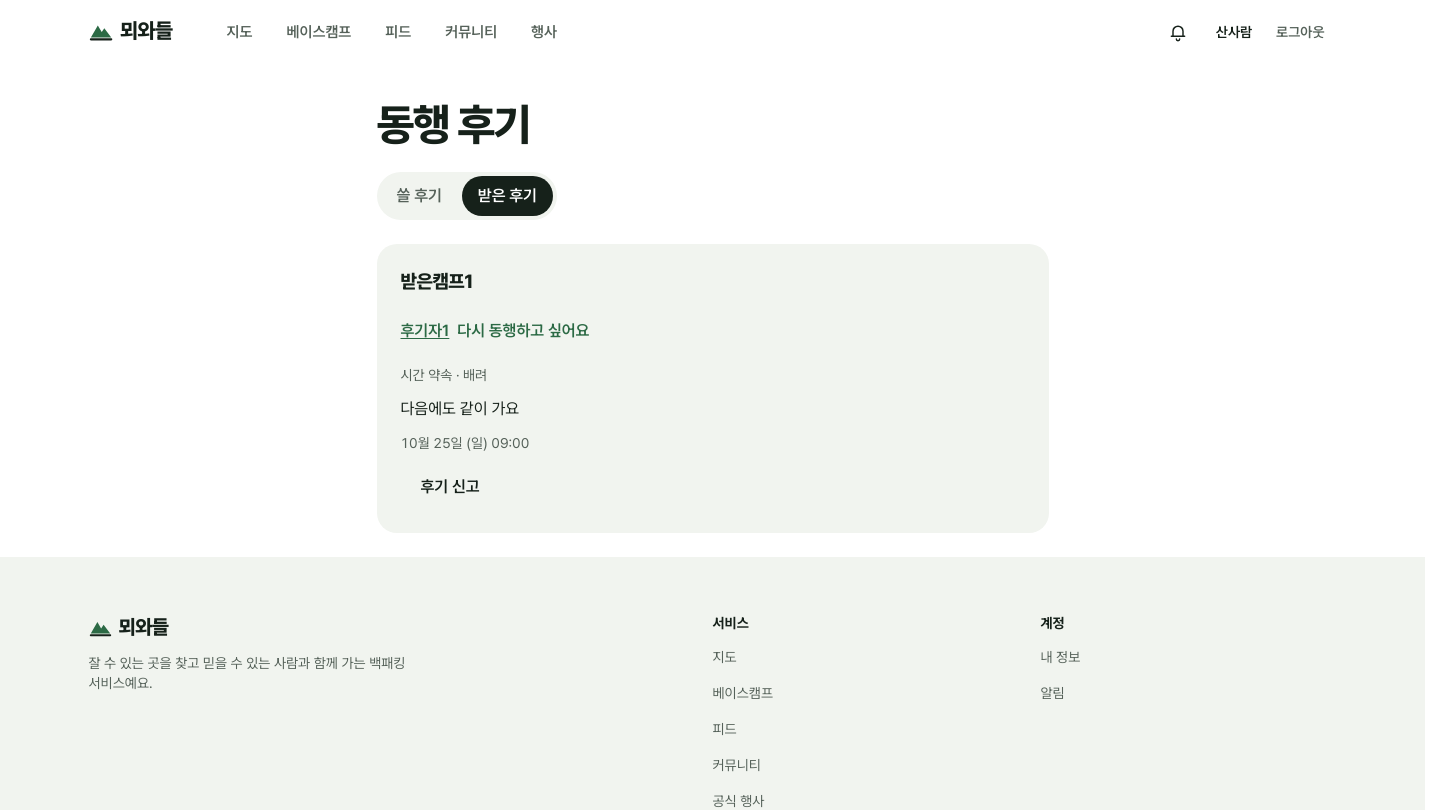
Test: 동행 후기 화면 › 받은 후기 › 후기 신고를 누르면 그 후기를 쓴 사람을 신고하는 창이 열린다
The width and height of the screenshot is (1440, 810).
Click the button "후기 신고" at (450,486), box 400,464 -> 500,508
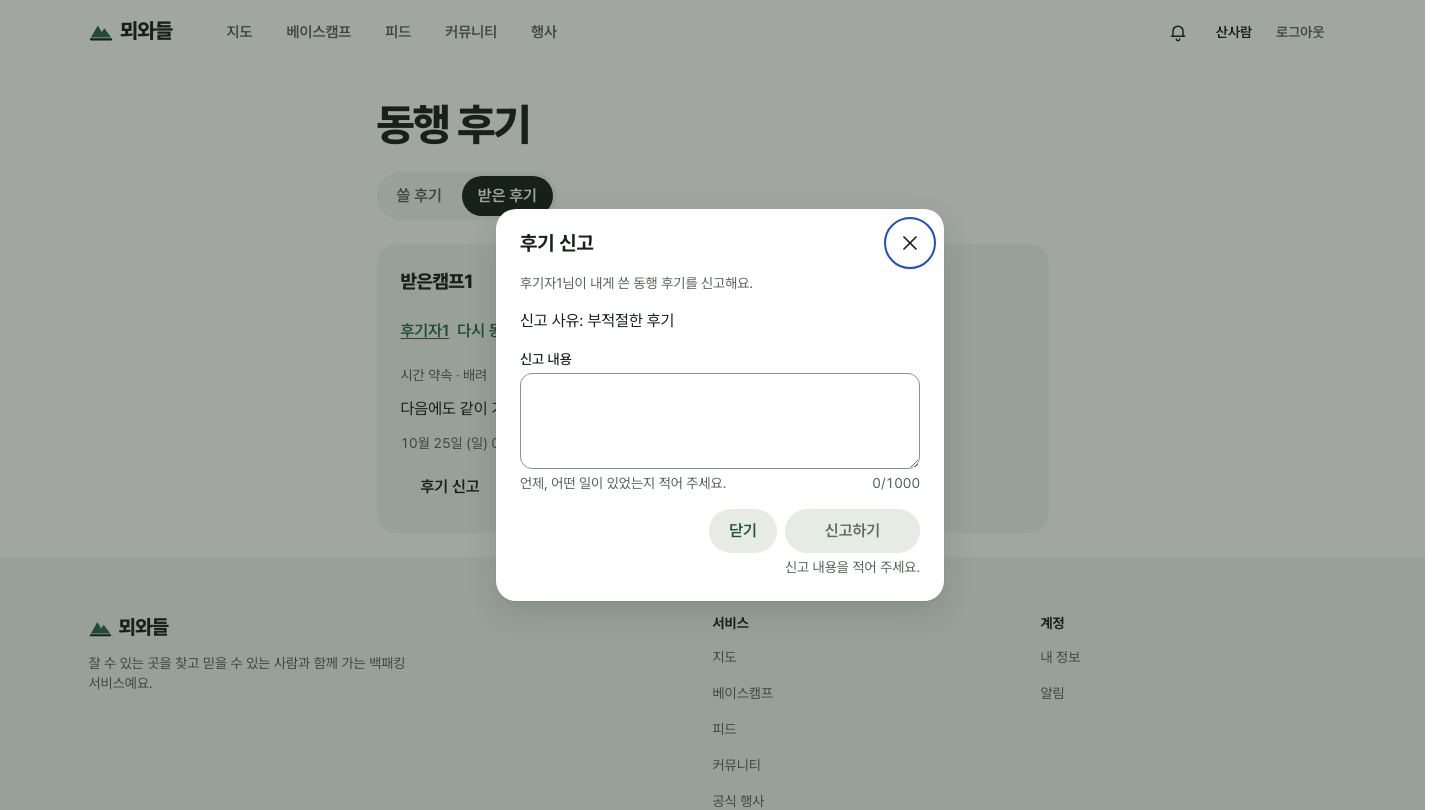
expect the dialog shows "후기자1님이 내게 쓴 동행 후기를 신고해요.": met, box 520,275 -> 753,291
